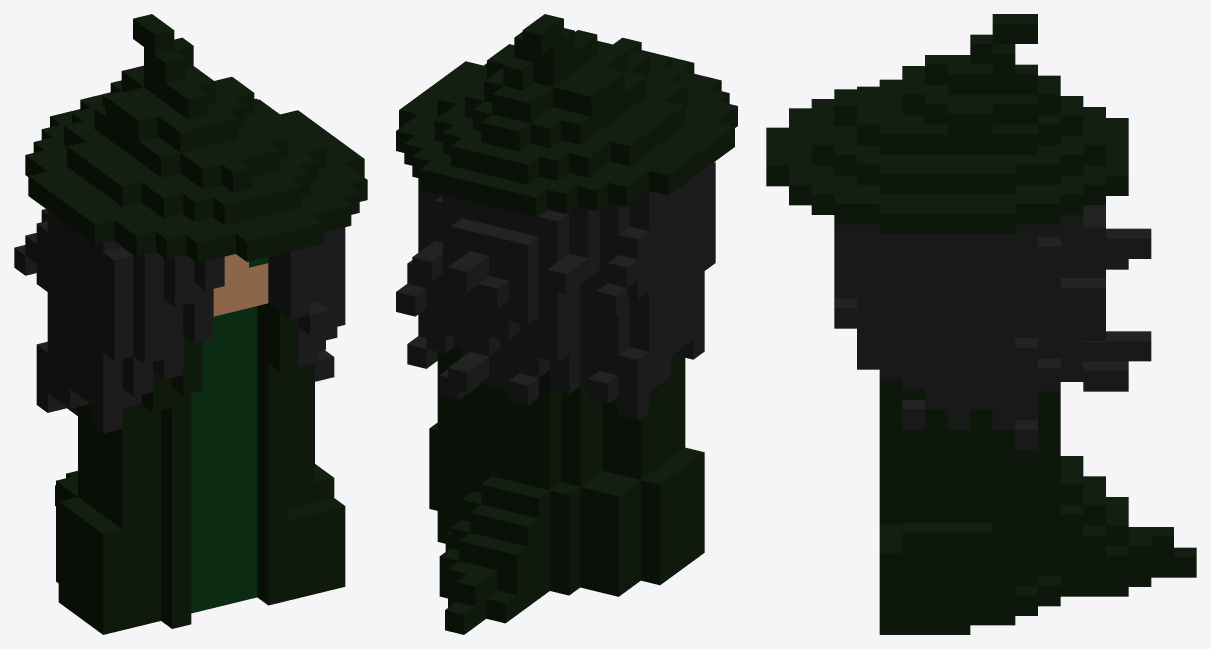
Rendered from Bruxa 03 - Andando-02.obj.
The picture shows the model from 3 angles, left to right: view 1: azimuth 30°, elevation 25°; view 2: azimuth 150°, elevation 25°; view 3: azimuth 270°, elevation 25°; orthographic projection.
Bounding box in the file's own units: 14 × 27 × 19.
Materials: 1 (1 with a texture image).
